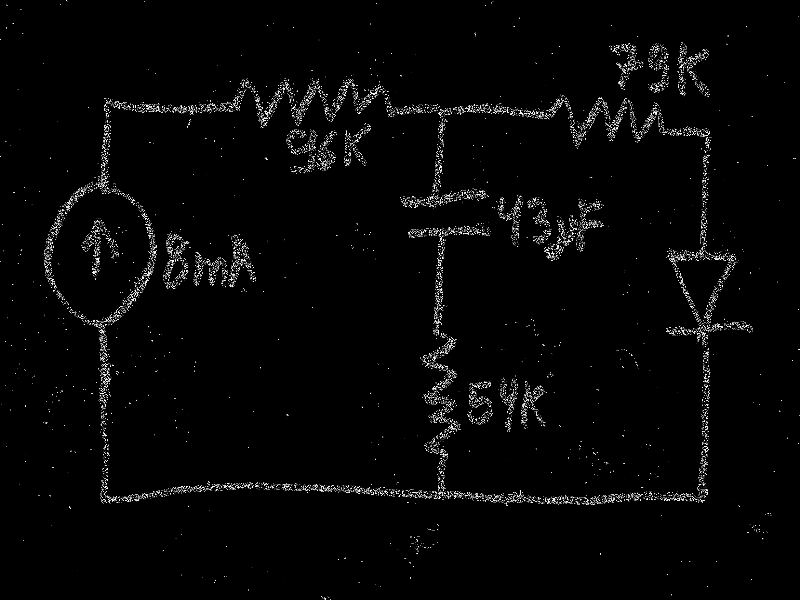3: (525, 195, 553, 247)
4: (495, 191, 524, 251), (498, 374, 519, 435)
5: (465, 379, 494, 428)
6: (317, 127, 337, 175)
7: (607, 39, 645, 91)
8: (161, 230, 191, 291)
9: (285, 127, 317, 178), (645, 43, 671, 95)
A: (228, 233, 256, 291)
F: (576, 197, 605, 252)
k: (675, 40, 713, 100), (342, 122, 371, 170), (521, 379, 547, 431)
m: (191, 250, 229, 290)
u: (552, 214, 576, 260)
